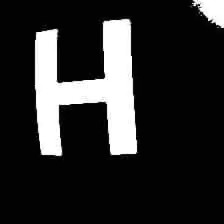LTR_H: (21, 5, 143, 170)
